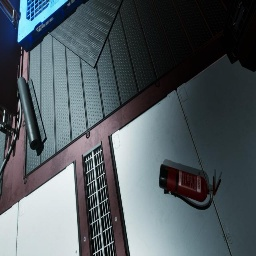FireExtinguisher ]: (159, 164, 221, 210)
